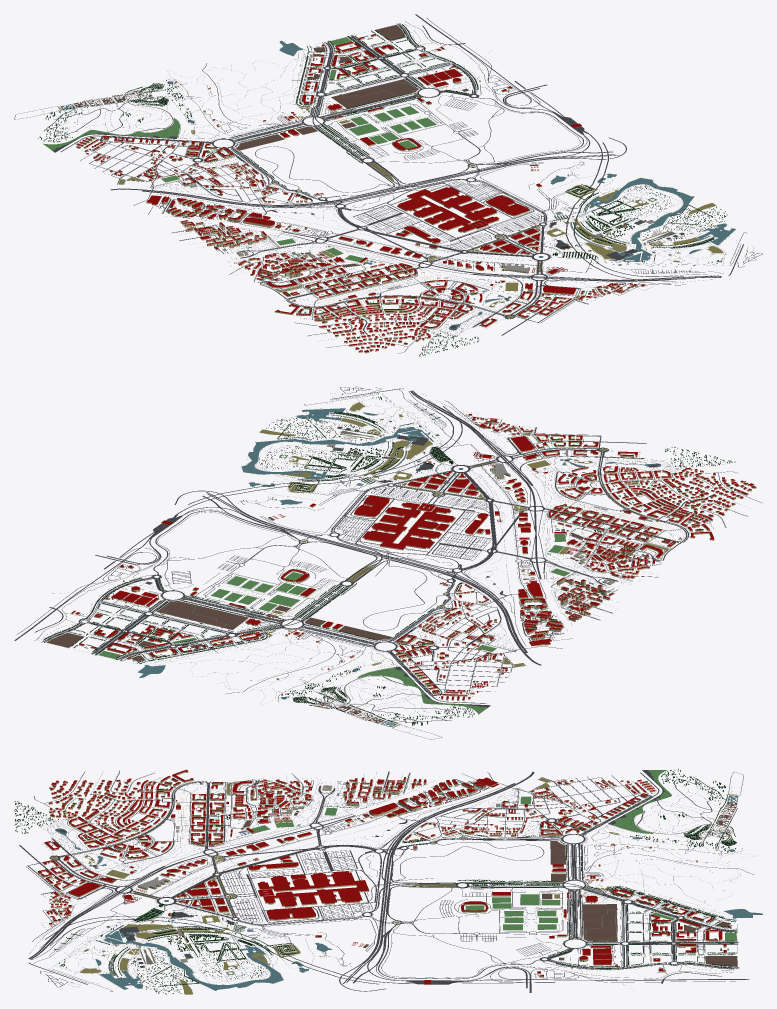
File: madrid.glb
The picture shows the model from 3 angles, top to bottom: view 1: azimuth 30°, elevation 25°; view 2: azimuth 150°, elevation 25°; view 3: azimuth 270°, elevation 25°; orthographic projection. The views are drawn at different scales.
Parts seen in each view (by area): view 1: cell_-1_1, cell_0_-2, cell_0_0, cell_0_1, cell_-1_0, cell_0_-1, cell_-1_-2, cell_-1_-1, cell_-2_0, cell_-2_1, cell_-2_-1, cell_1_1 (+5 smaller); view 2: cell_0_-2, cell_-1_1, cell_0_0, cell_0_1, cell_-1_0, cell_-1_-2, cell_0_-1, cell_-1_-1, cell_-2_0, cell_-2_1, cell_-2_-1, cell_1_1 (+5 smaller); view 3: cell_-1_1, cell_0_-2, cell_0_0, cell_0_1, cell_-1_0, cell_0_-1, cell_-1_-2, cell_-1_-1, cell_-2_0, cell_-2_1, cell_-2_-1, cell_1_1 (+7 smaller).
Boxes of the visible parts, bbox=[...] form: cell_-1_1: bbox=[337, 247, 558, 337]; cell_0_-2: bbox=[241, 34, 454, 126]; cell_0_0: bbox=[397, 153, 614, 244]; cell_0_1: bbox=[470, 211, 695, 303]; cell_-1_0: bbox=[252, 187, 475, 279]; cell_0_-1: bbox=[314, 95, 522, 186]; cell_-1_-2: bbox=[95, 70, 317, 161]; cell_-1_-1: bbox=[179, 127, 394, 218]; cell_-2_0: bbox=[179, 218, 336, 293]; cell_-2_1: bbox=[274, 278, 416, 352]; cell_-2_-1: bbox=[110, 163, 256, 234]; cell_1_1: bbox=[616, 195, 762, 265]; cell_0_-2: bbox=[79, 584, 303, 676]; cell_-1_1: bbox=[473, 437, 695, 533]; cell_0_0: bbox=[243, 463, 468, 558]; cell_0_1: bbox=[328, 403, 552, 499]; cell_-1_0: bbox=[388, 499, 614, 594]; cell_-1_-2: bbox=[237, 617, 447, 715]; cell_0_-1: bbox=[164, 527, 386, 620]; cell_-1_-1: bbox=[306, 559, 530, 652]; cell_-2_0: bbox=[533, 532, 672, 613]; cell_-2_1: bbox=[615, 473, 762, 548]; cell_-2_-1: bbox=[453, 591, 600, 670]; cell_1_1: bbox=[255, 387, 400, 463]; cell_-1_1: bbox=[51, 809, 224, 885]; cell_0_-2: bbox=[558, 882, 730, 954]; cell_0_0: bbox=[218, 875, 395, 955]; cell_0_1: bbox=[51, 877, 228, 954]; cell_-1_0: bbox=[217, 807, 395, 884]; cell_0_-1: bbox=[390, 882, 561, 954]; cell_-1_-2: bbox=[550, 809, 728, 883]; cell_-1_-1: bbox=[390, 808, 565, 882]; cell_-2_0: bbox=[223, 771, 396, 814]; cell_-2_1: bbox=[55, 769, 224, 812]; cell_-2_-1: bbox=[390, 771, 561, 812]; cell_1_1: bbox=[49, 949, 225, 994].
Bounding box in the file's own units: 3171 × 30.23 × 4464.
38 materials, 37 textured.
